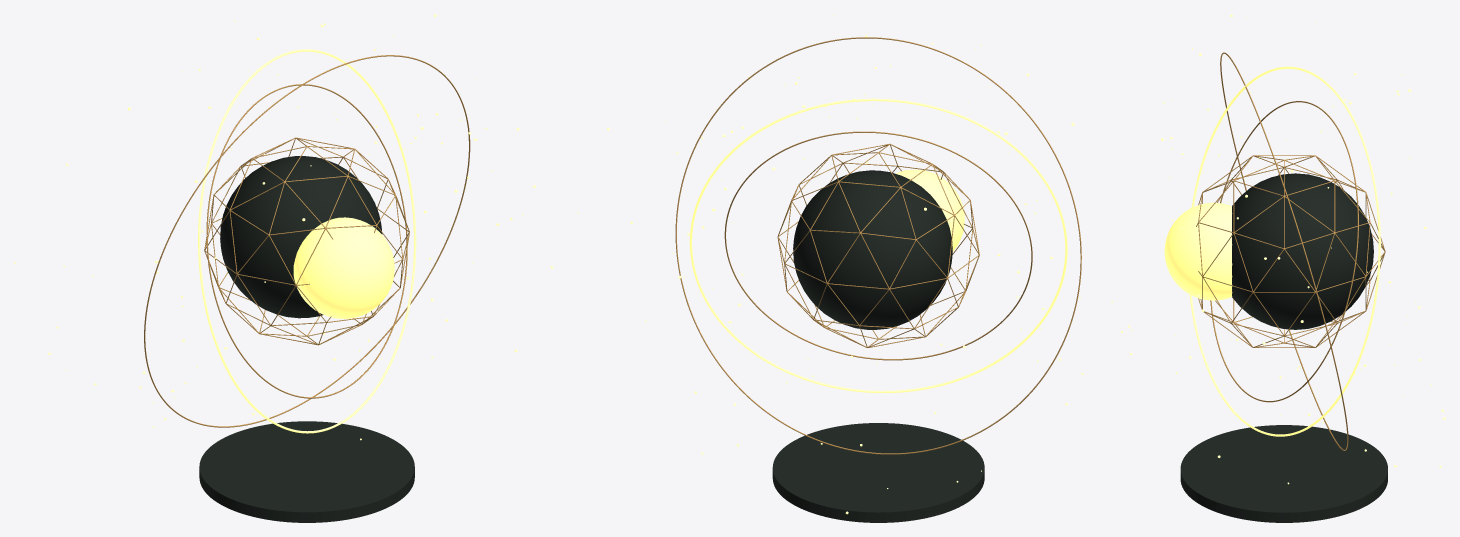
File: inner-power.glb
3 renders of one model, left to right at view 1: azimuth 30°, elevation 25°; view 2: azimuth 150°, elevation 25°; view 3: azimuth 270°, elevation 25°, orthographic. The views are drawn at different scales.
Visible parts, largest first — view 1: Floating sculpture plinth, Inner dark lens, Inner power • luminous heart, Faceted shell • self discovery, Golden orbit 2, Golden orbit 3, Golden orbit 1; view 2: Inner dark lens, Floating sculpture plinth, Faceted shell • self discovery, Golden orbit 2, Golden orbit 3, Inner power • luminous heart, Golden orbit 1; view 3: Inner dark lens, Floating sculpture plinth, Inner power • luminous heart, Faceted shell • self discovery, Golden orbit 2, Golden orbit 3, Golden orbit 1.
Boxes of the visible parts, x1=… form: Floating sculpture plinth: x1=199, y1=421, x2=414, y2=522; Inner dark lens: x1=220, y1=156, x2=382, y2=318; Inner power • luminous heart: x1=293, y1=217, x2=394, y2=318; Faceted shell • self discovery: x1=204, y1=137, x2=409, y2=345; Golden orbit 2: x1=198, y1=49, x2=416, y2=433; Golden orbit 3: x1=144, y1=55, x2=470, y2=427; Golden orbit 1: x1=206, y1=84, x2=407, y2=398; Inner dark lens: x1=793, y1=170, x2=952, y2=329; Floating sculpture plinth: x1=772, y1=423, x2=984, y2=522; Faceted shell • self discovery: x1=777, y1=143, x2=979, y2=347; Golden orbit 2: x1=689, y1=98, x2=1067, y2=392; Golden orbit 3: x1=675, y1=37, x2=1081, y2=454; Inner power • luminous heart: x1=895, y1=169, x2=964, y2=251; Golden orbit 1: x1=724, y1=131, x2=1032, y2=360; Inner dark lens: x1=1232, y1=173, x2=1373, y2=329; Floating sculpture plinth: x1=1180, y1=425, x2=1387, y2=522; Inner power • luminous heart: x1=1164, y1=202, x2=1232, y2=300; Faceted shell • self discovery: x1=1196, y1=155, x2=1385, y2=347; Golden orbit 2: x1=1189, y1=66, x2=1380, y2=436; Golden orbit 3: x1=1220, y1=52, x2=1348, y2=450; Golden orbit 1: x1=1210, y1=101, x2=1358, y2=402.
Size of what is drawn, in the model's own units: 5.54 by 4.97 by 3.02.
